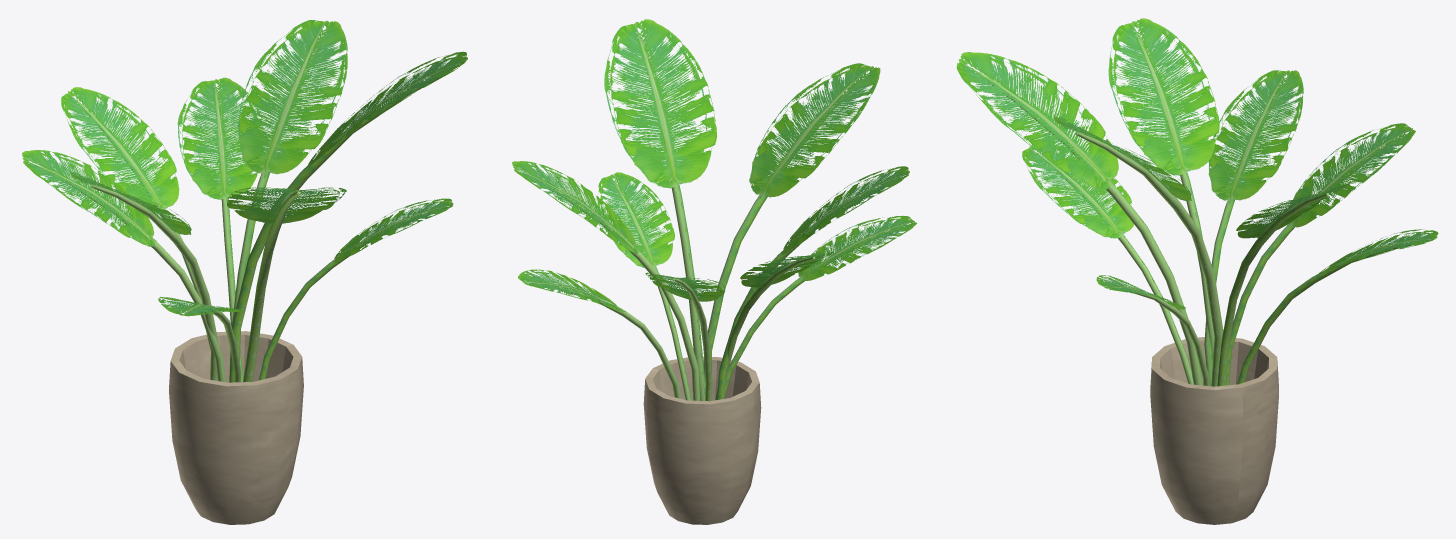
File: potted-plant.glb
The picture shows the model from 3 angles, left to right: view 1: azimuth 30°, elevation 25°; view 2: azimuth 150°, elevation 25°; view 3: azimuth 270°, elevation 25°; orthographic projection. The views are drawn at different scales.
Visible parts, largest first — view 1: Banana_Plant; view 2: Banana_Plant; view 3: Banana_Plant.
Boxes of the visible parts, <box> form: Banana_Plant: <box>22,20,467,524</box>; Banana_Plant: <box>512,19,917,524</box>; Banana_Plant: <box>956,18,1438,524</box>.
Size of the model in its own units: 0.8508 by 1.04 by 1.01.
2 materials, 2 textured.
